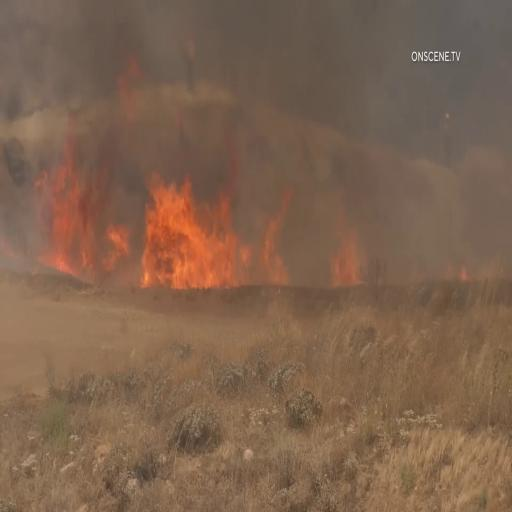fire: (140, 147, 259, 289), (28, 119, 118, 281), (265, 184, 354, 277)
